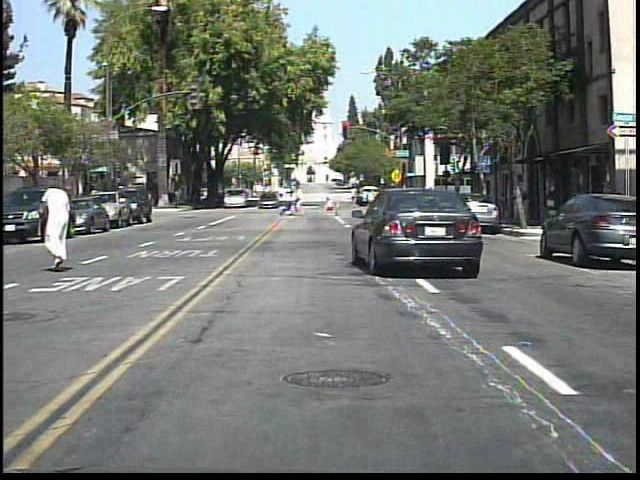person: (37, 181, 81, 274), (511, 176, 535, 228), (292, 183, 309, 220)
